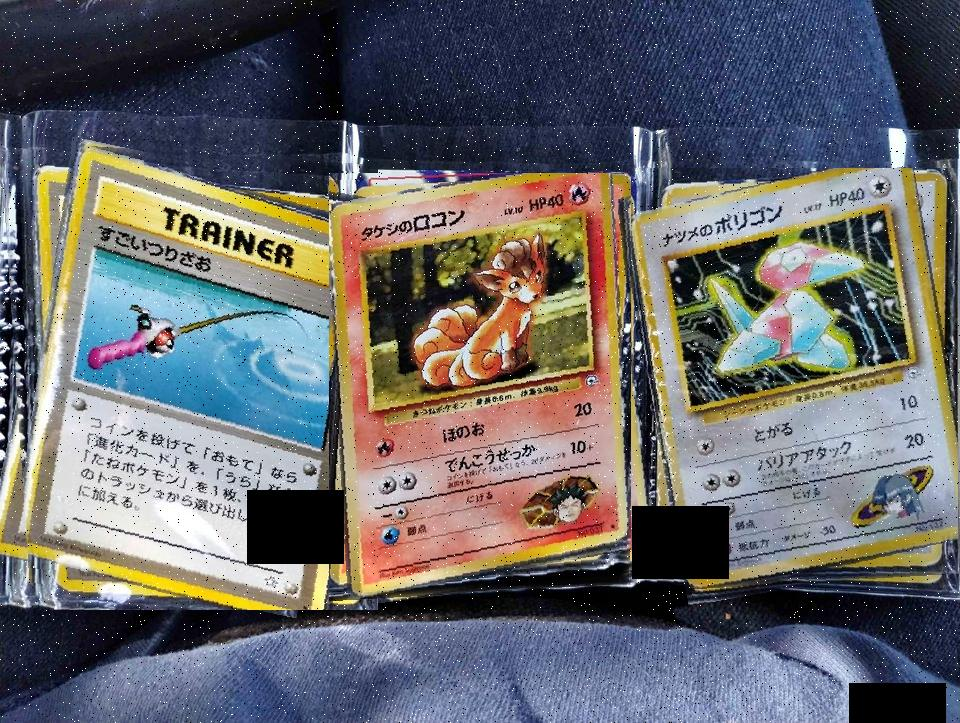card: (22, 146, 378, 610), (632, 168, 959, 589), (329, 173, 632, 599)
